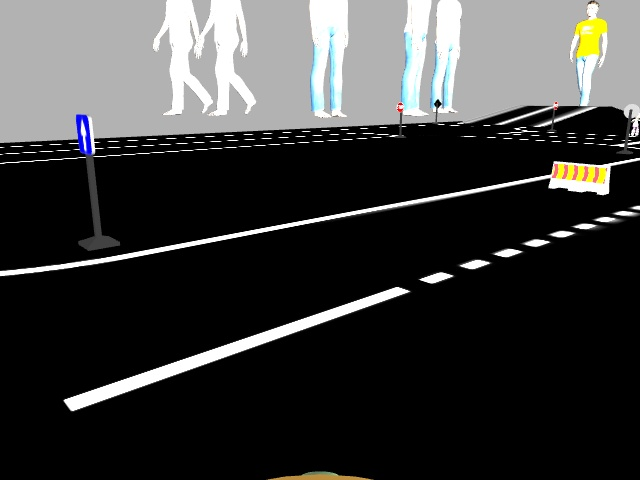ClosedRoadStand: (551, 161, 609, 192)
OneWay: (75, 114, 94, 155)
